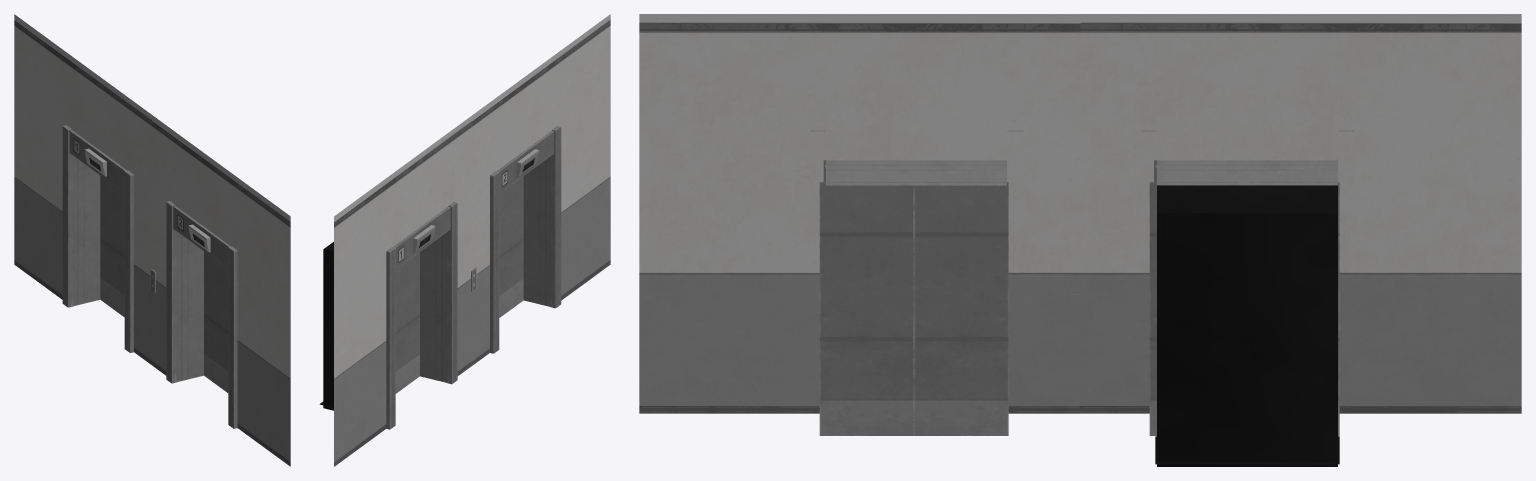
File: HH_Elevator.fbx
3 renders of one model, left to right at view 1: azimuth 30°, elevation 25°; view 2: azimuth 150°, elevation 25°; view 3: azimuth 270°, elevation 25°, orthographic. The views are drawn at different scales.
Parts seen in each view (by area): view 1: HH_Elevator; view 2: HH_Elevator; view 3: HH_Elevator.
Part boxes in pixels (left/top/right/bottom): HH_Elevator: left=14, top=14, right=290, bottom=466; HH_Elevator: left=319, top=14, right=610, bottom=466; HH_Elevator: left=639, top=14, right=1521, bottom=466.
Size of what is drawn, in the model's own units: 131 by 400 by 800.
